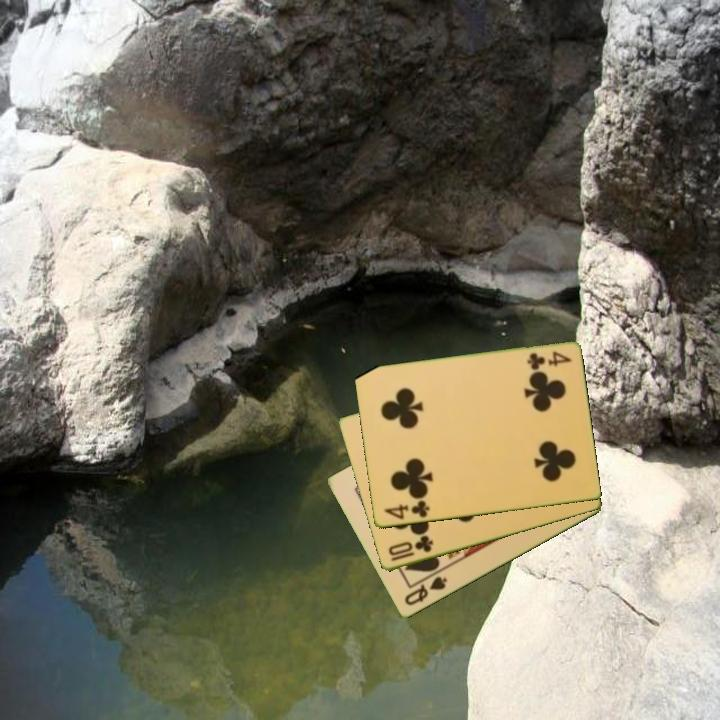10c: (385, 533, 436, 564)
4c: (380, 497, 432, 523), (523, 348, 575, 372)
Qs: (401, 573, 450, 609)
